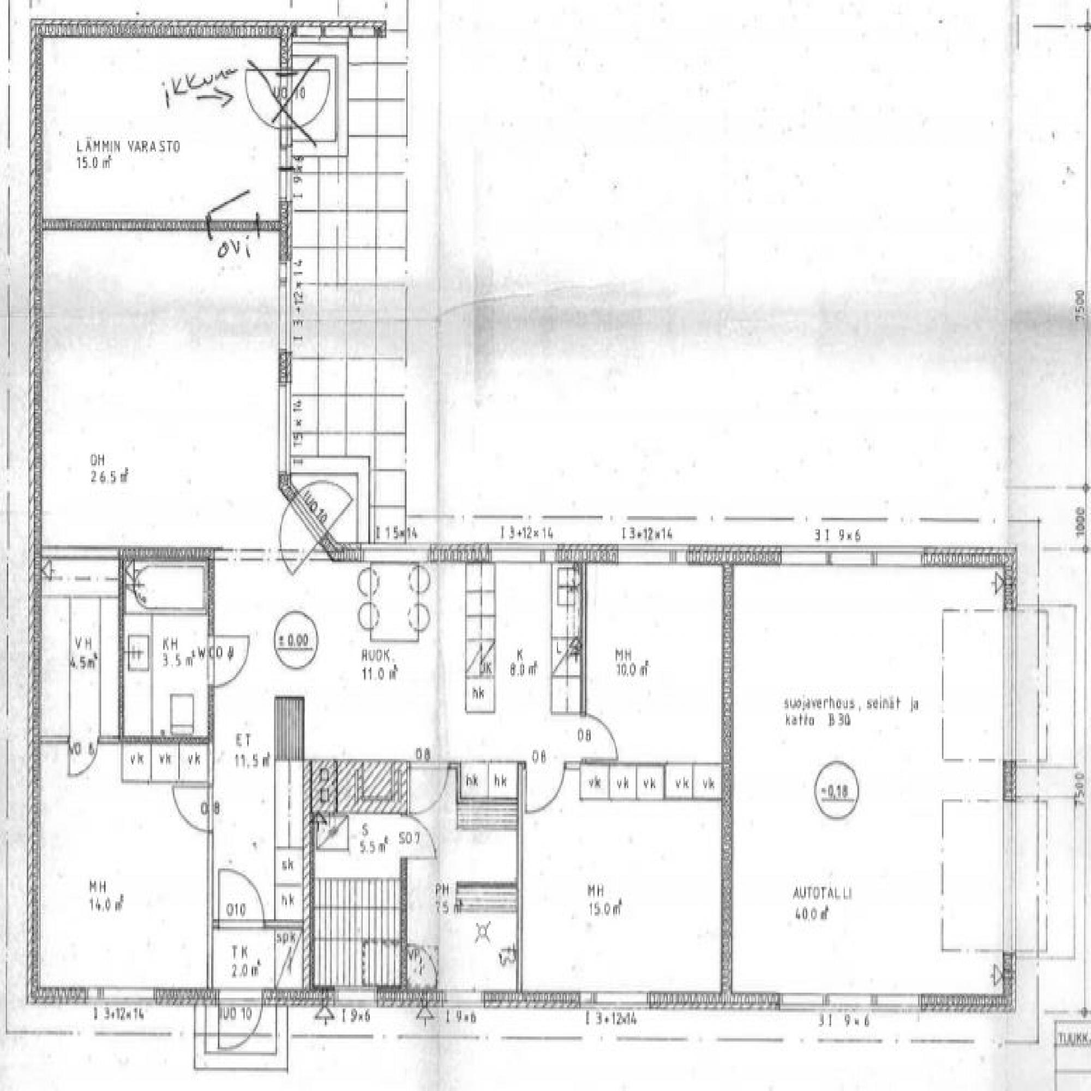wall: (26, 986, 1017, 1004), (330, 542, 1017, 563), (26, 21, 40, 1004), (1003, 542, 1017, 1004), (278, 20, 291, 489), (278, 476, 338, 563), (723, 542, 733, 1004), (26, 21, 291, 37), (26, 219, 291, 231), (207, 547, 213, 1004), (303, 815, 314, 1004), (26, 547, 213, 558), (303, 759, 336, 815), (291, 21, 386, 38), (401, 760, 407, 1004), (26, 736, 213, 743), (118, 547, 124, 743), (517, 798, 522, 1004), (581, 542, 585, 764), (207, 920, 314, 928), (517, 760, 581, 769), (401, 760, 460, 769), (457, 880, 522, 887), (456, 797, 522, 803), (517, 759, 522, 797), (456, 760, 460, 803)
